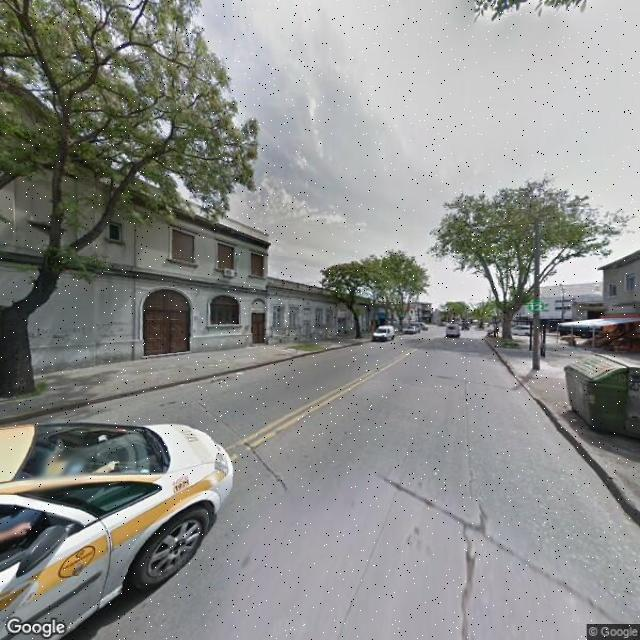garbage container: (560, 347, 640, 451)
